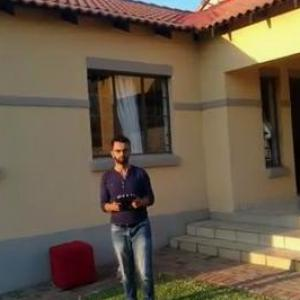follow: (94, 127, 164, 299)
